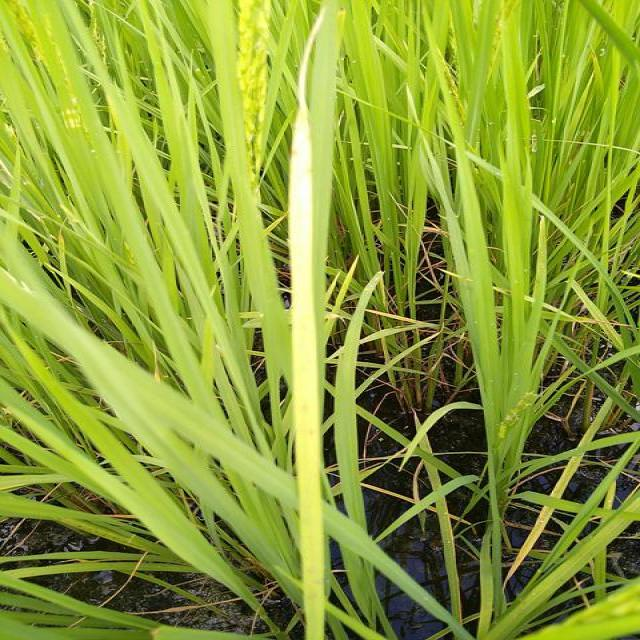Leaf Blight: (291, 7, 327, 639)
